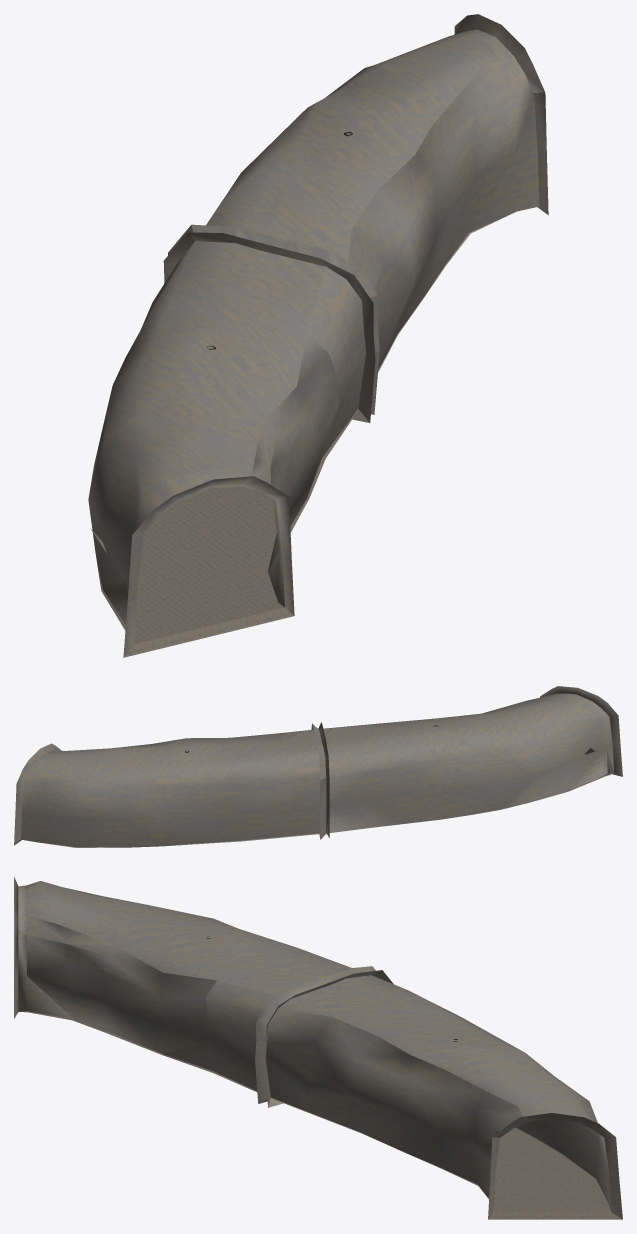
The model's file is R_Tun8.glb.
3 views of the same model, one above another, from view 1: azimuth 30°, elevation 25°; view 2: azimuth 150°, elevation 25°; view 3: azimuth 270°, elevation 25° (orthographic). The views are drawn at different scales.
Visible parts, largest first — view 1: _R_Tun8; view 2: _R_Tun8; view 3: _R_Tun8.
Part boxes in pixels (x1=…): _R_Tun8: x1=88, y1=14, x2=548, y2=657; _R_Tun8: x1=14, y1=686, x2=622, y2=847; _R_Tun8: x1=14, y1=877, x2=622, y2=1219.
Bounding box in the file's own units: 20.54 × 4.07 × 20.54.
4 materials, 4 textured.
